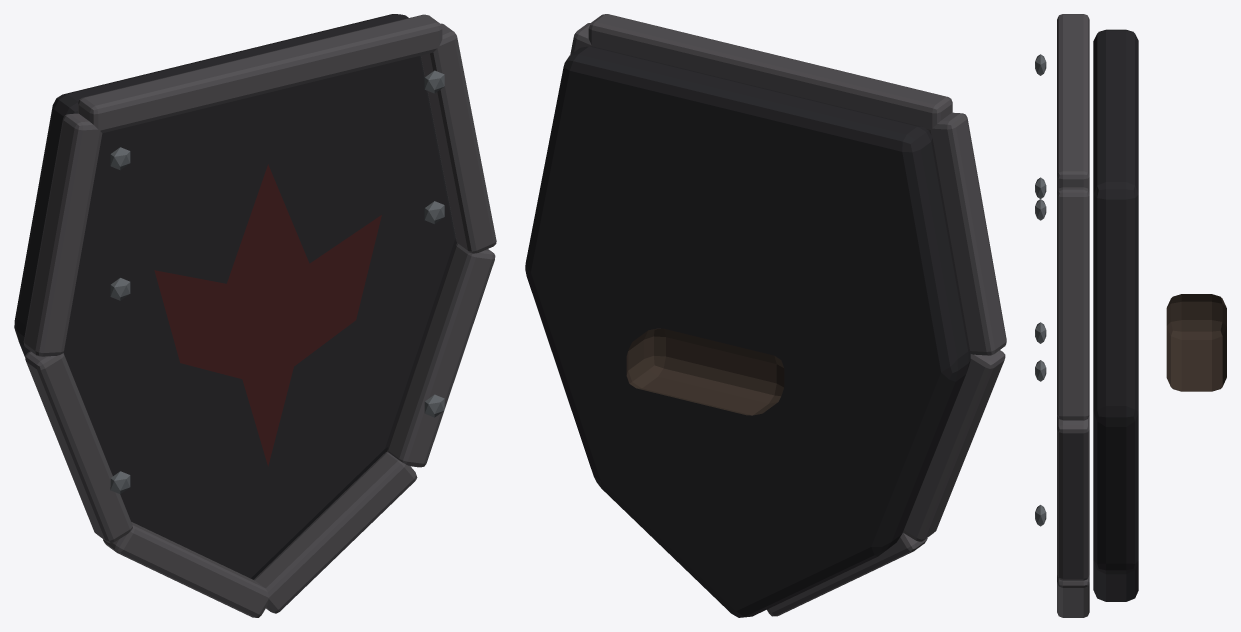
File: evil_shield.glb
3 renders of one model, left to right at view 1: azimuth 30°, elevation 25°; view 2: azimuth 150°, elevation 25°; view 3: azimuth 270°, elevation 25°, orthographic. The views are drawn at different scales.
Visible parts, largest first — view 1: Shield blue field, Crimson shield emblem, Shield gold rim, Shield gold rim.006, Shield gold rim.002, Shield gold rim.001, Shield gold rim.003, Shield gold rim.005, Shield gold rim.004; view 2: Shield blue field, Shield gold rim, Shield hand grip, Shield gold rim.006, Shield gold rim.005, Shield gold rim.004; view 3: Shield blue field, Shield gold rim.001, Shield hand grip, Shield gold rim, Shield gold rim.002, Shield gold rim.003.
Part boxes in pixels (bbox=[...]): Shield blue field: bbox=[14, 14, 456, 579]; Crimson shield emblem: bbox=[154, 164, 381, 466]; Shield gold rim: bbox=[78, 14, 442, 133]; Shield gold rim.006: bbox=[23, 113, 102, 356]; Shield gold rim.002: bbox=[387, 243, 495, 467]; Shield gold rim.001: bbox=[421, 23, 496, 253]; Shield gold rim.003: bbox=[254, 451, 417, 613]; Shield gold rim.005: bbox=[25, 351, 132, 542]; Shield gold rim.004: bbox=[103, 522, 268, 617]; Shield blue field: bbox=[525, 46, 970, 617]; Shield gold rim: bbox=[588, 14, 952, 130]; Shield hand grip: bbox=[626, 328, 784, 415]; Shield gold rim.006: bbox=[929, 112, 1006, 355]; Shield gold rim.005: bbox=[903, 350, 1005, 541]; Shield gold rim.004: bbox=[767, 533, 927, 616]; Shield blue field: bbox=[1093, 29, 1138, 601]; Shield gold rim.001: bbox=[1057, 187, 1089, 420]; Shield hand grip: bbox=[1166, 294, 1226, 391]; Shield gold rim: bbox=[1057, 14, 1089, 190]; Shield gold rim.002: bbox=[1057, 416, 1089, 580]; Shield gold rim.003: bbox=[1057, 575, 1089, 617].
Size of the model in its own units: 0.9968 by 1.14 by 0.3811.
